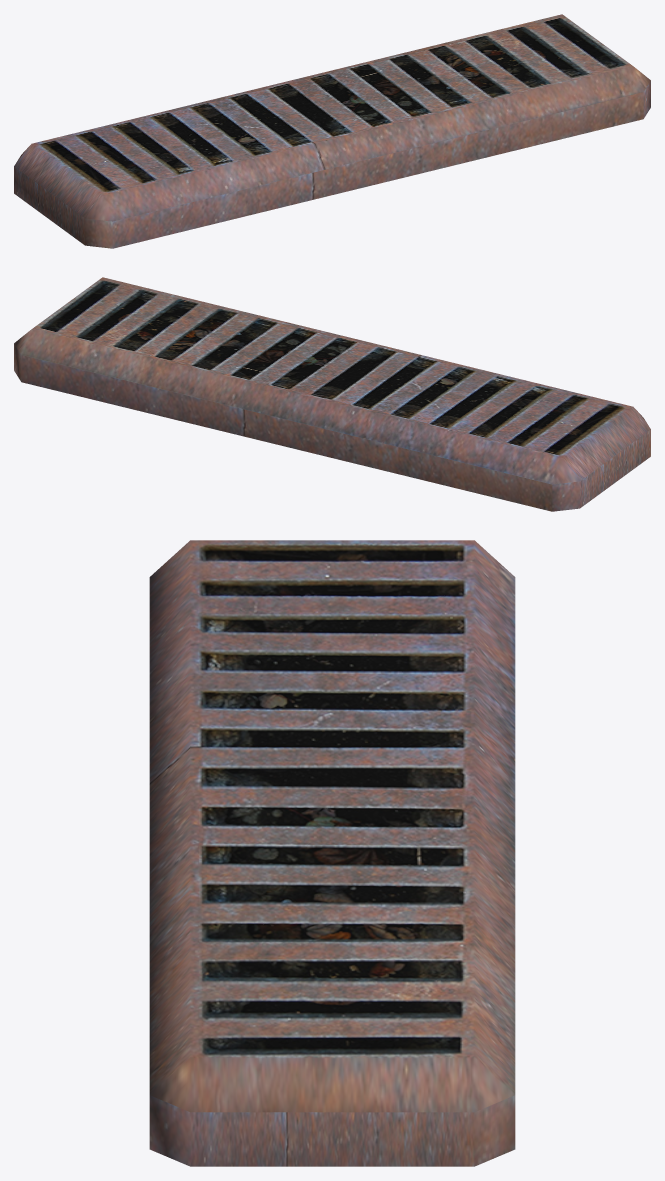
File: manhole_cover_05.fbx
3 views of the same model, one above another, from view 1: azimuth 30°, elevation 25°; view 2: azimuth 150°, elevation 25°; view 3: azimuth 270°, elevation 25° (orthographic). The views are drawn at different scales.
Visible parts, largest first — view 1: manhole_cover_05; view 2: manhole_cover_05; view 3: manhole_cover_05.
Boxes of the visible parts, x1=… form: manhole_cover_05: x1=14, y1=14, x2=650, y2=248; manhole_cover_05: x1=14, y1=277, x2=650, y2=511; manhole_cover_05: x1=149, y1=540, x2=515, y2=1166.
Bounding box in the file's own units: 0.6443 × 0.0496 × 0.1802.
